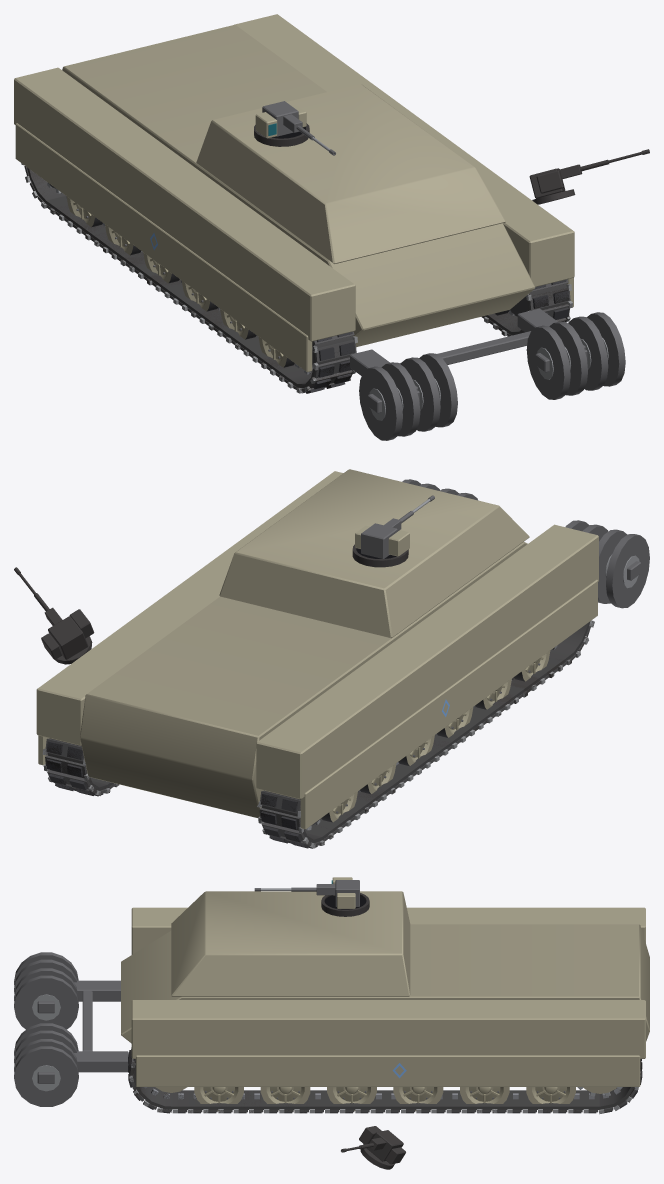
The model's file is mineClearer__mine_clearing_vehicle.glb.
The picture shows the model from 3 angles, top to bottom: view 1: azimuth 30°, elevation 25°; view 2: azimuth 150°, elevation 25°; view 3: azimuth 270°, elevation 25°; orthographic projection. The views are drawn at different scales.
Visible parts, largest first — view 1: Hull_Mesh, Track_L_Mesh, Wreck, Track_R_Mesh, Turret_Mesh; view 2: Hull_Mesh, Track_L_Mesh, Wreck, Track_R_Mesh, Turret_Mesh; view 3: Hull_Mesh, Track_R_Mesh, Wreck, Wheel_R2_Mesh, Wheel_R4_Mesh, Wheel_R0_Mesh, Wheel_R1_Mesh, Wheel_R5_Mesh, Wheel_R3_Mesh, Turret_Mesh, Gun_Mesh.
Boxes of the visible parts, box(x1,y1,x2,y2) form: Hull_Mesh: box(14, 14, 625, 440); Track_L_Mesh: box(21, 163, 357, 393); Wreck: box(21, 123, 649, 392); Track_R_Mesh: box(484, 279, 572, 336); Turret_Mesh: box(255, 101, 306, 138); Hull_Mesh: box(36, 469, 649, 829); Track_L_Mesh: box(257, 620, 594, 848); Wreck: box(14, 544, 594, 848); Track_R_Mesh: box(42, 738, 117, 796); Turret_Mesh: box(355, 523, 409, 558); Hull_Mesh: box(14, 891, 649, 1106); Track_R_Mesh: box(128, 1047, 641, 1114); Wreck: box(128, 893, 642, 1169); Wheel_R2_Mesh: box(393, 1087, 443, 1110); Wheel_R4_Mesh: box(260, 1087, 310, 1110); Wheel_R0_Mesh: box(526, 1087, 575, 1111); Wheel_R1_Mesh: box(460, 1087, 509, 1110); Wheel_R5_Mesh: box(194, 1087, 243, 1110); Wheel_R3_Mesh: box(327, 1087, 376, 1110); Turret_Mesh: box(331, 877, 359, 908); Gun_Mesh: box(254, 884, 335, 895).
Size of what is drawn, in the model's own units: 6.41 by 2.46 by 8.82.
